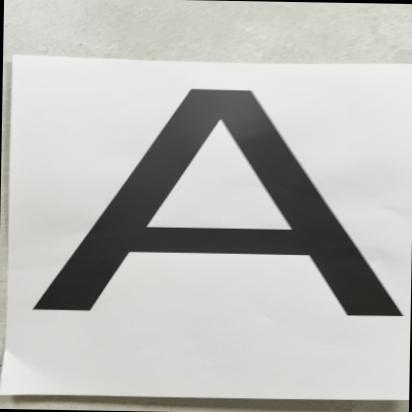seat: (20, 63, 412, 366)
